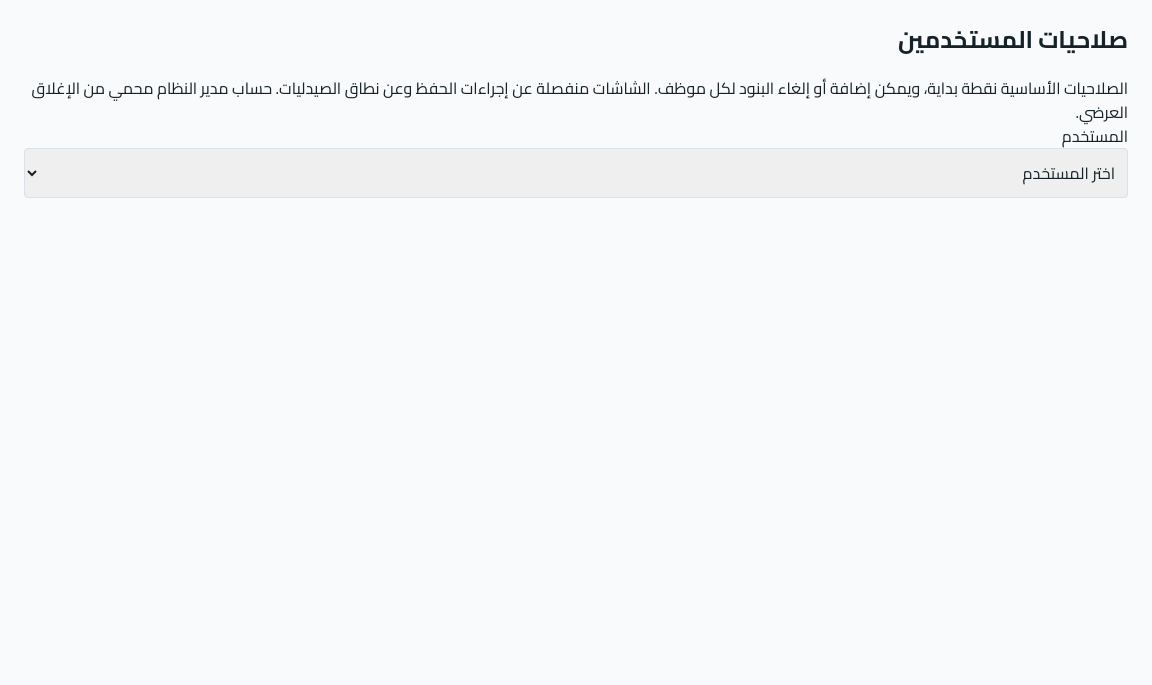
it: does not let a pharmacy manager check security-sensitive grants
Select "Employee (viewer)" in the dropdown labelled "المستخدم" at {"x": 576, "y": 173}, box [24, 148, 1128, 198]
(page scrolled)
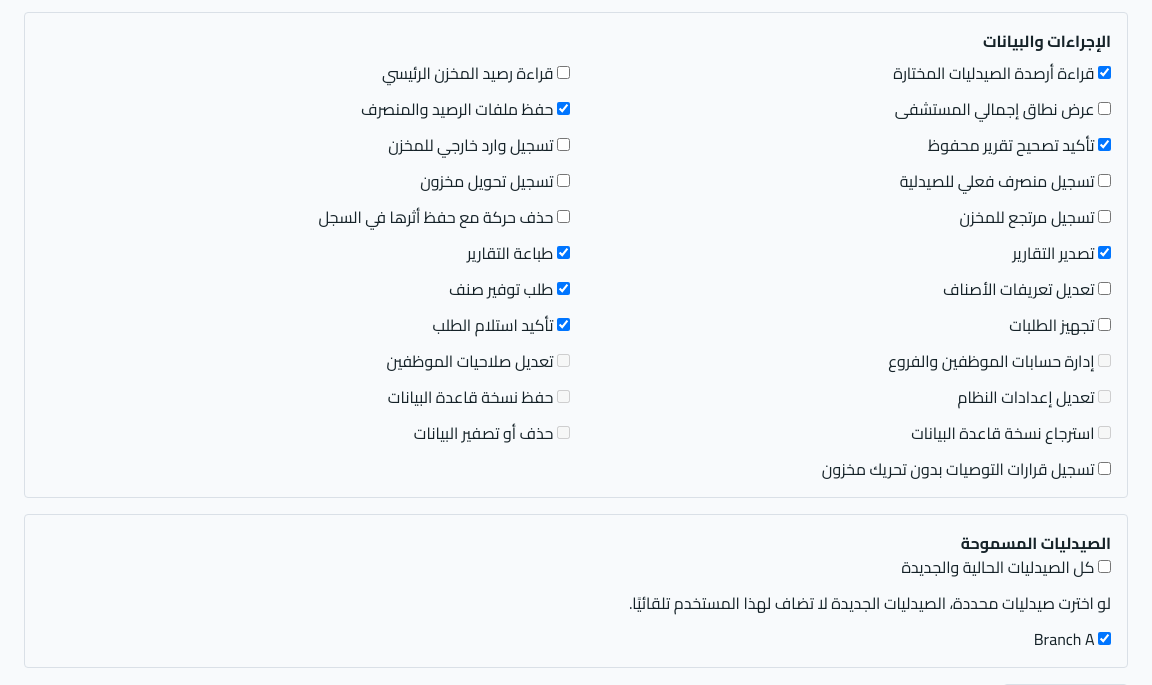
Result: the checkbox labelled "تعديل صلاحيات الموظفين" is disabled at [557, 354, 570, 367]
